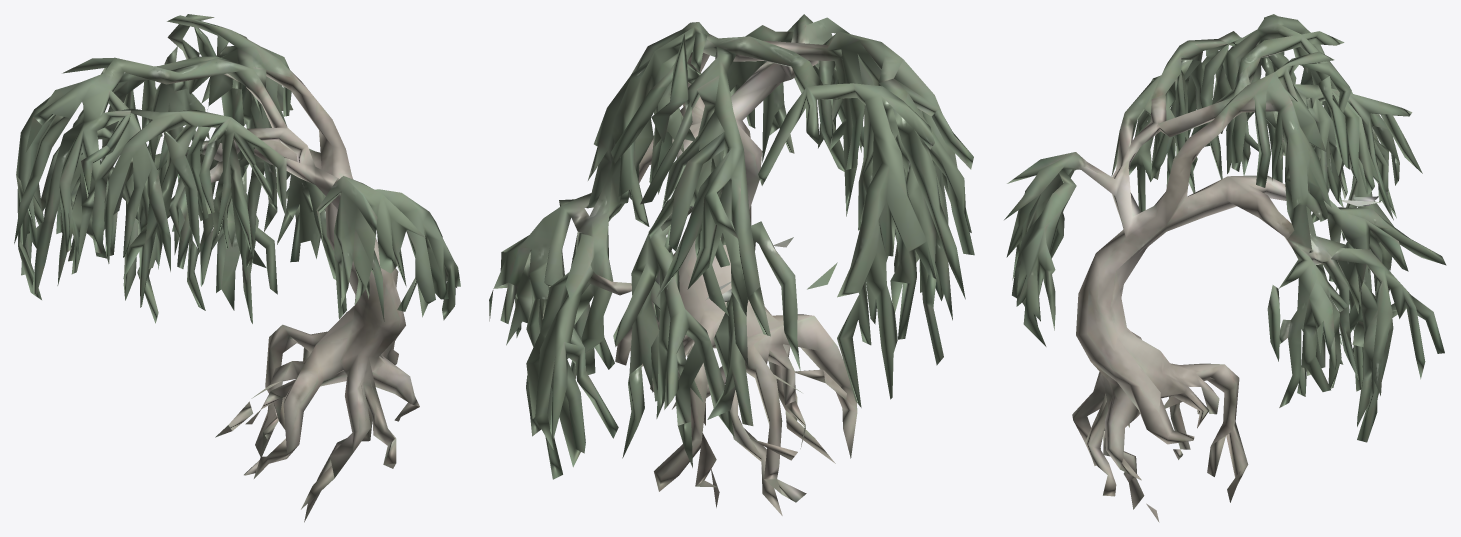
File: tree_riparian-D-iH9YpR.glb
3 views of the same model, side by side, from view 1: azimuth 30°, elevation 25°; view 2: azimuth 150°, elevation 25°; view 3: azimuth 270°, elevation 25° (orthographic). The views are drawn at different scales.
Visible parts, largest first — view 1: geom0; view 2: geom0; view 3: geom0.
Boxes of the visible parts, left/top/right/bottom form: geom0: left=14, top=14, right=460, bottom=522; geom0: left=489, top=14, right=974, bottom=515; geom0: left=1004, top=14, right=1446, bottom=522.
Bounding box in the file's own units: 0.8203 × 1.01 × 0.9099.
1 material, 1 textured.
